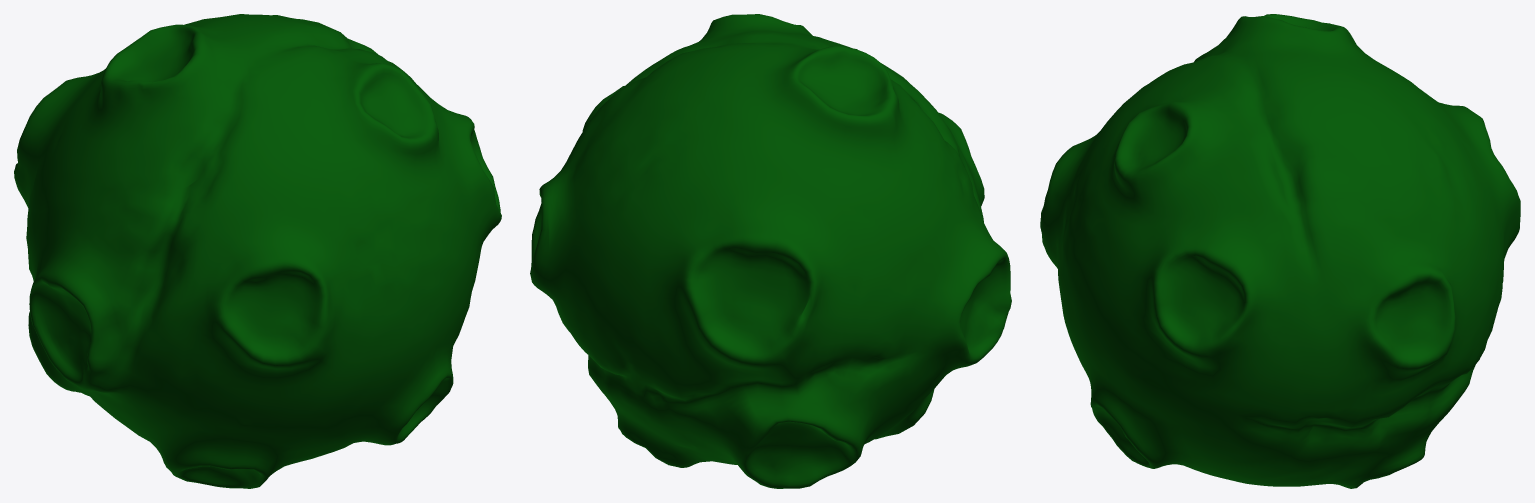
Rendered from OldMoon_LP.fbx.
The picture shows the model from 3 angles, left to right: view 1: azimuth 30°, elevation 25°; view 2: azimuth 150°, elevation 25°; view 3: azimuth 270°, elevation 25°; orthographic projection. The views are drawn at different scales.
Parts seen in each view (by area): view 1: OldMoon_LP; view 2: OldMoon_LP; view 3: OldMoon_LP.
Boxes of the visible parts, x1=… form: OldMoon_LP: x1=14, y1=14, x2=501, y2=488; OldMoon_LP: x1=530, y1=14, x2=1011, y2=488; OldMoon_LP: x1=1040, y1=14, x2=1520, y2=488.
Size of the model in its own units: 2.18 by 2.06 by 2.14.
